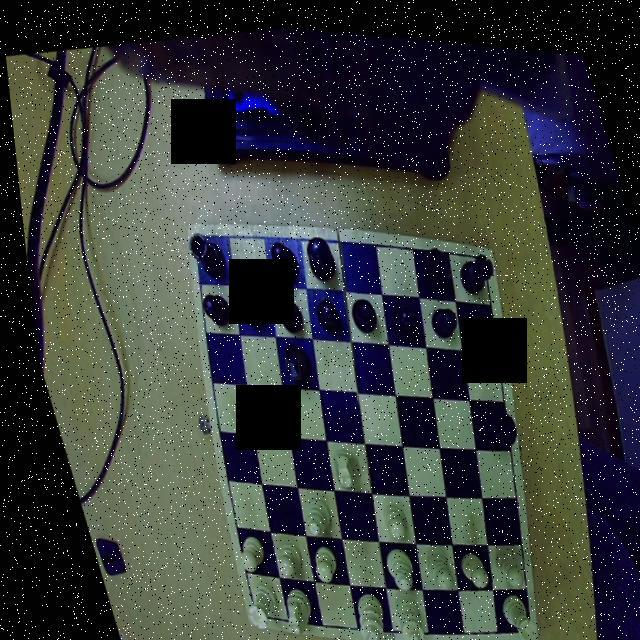chess-table-corners: (179, 220, 211, 253), (461, 233, 492, 266), (503, 602, 530, 636), (233, 598, 260, 628)
